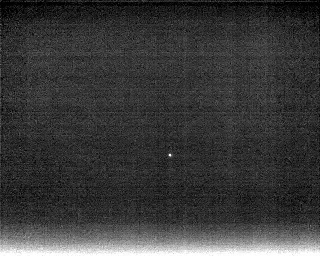BIRD: (165, 150, 174, 161)
